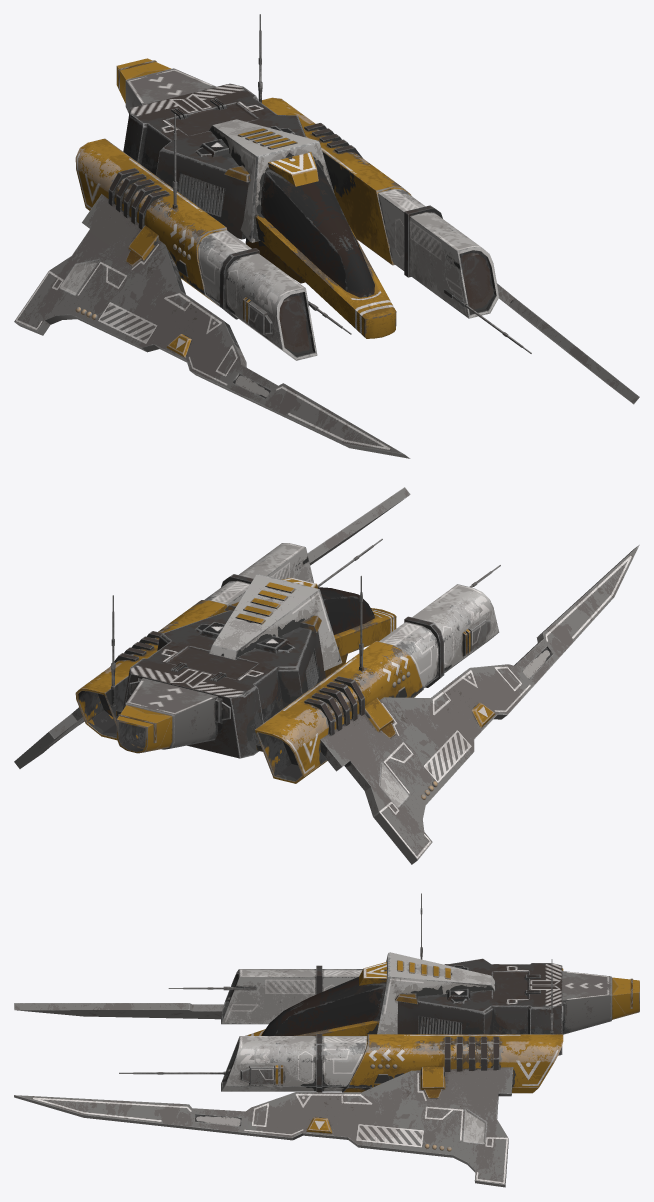
File: Striker.glb
3 views of the same model, one above another, from view 1: azimuth 30°, elevation 25°; view 2: azimuth 150°, elevation 25°; view 3: azimuth 270°, elevation 25° (orthographic). The views are drawn at different scales.
Visible parts, largest first — view 1: Striker; view 2: Striker; view 3: Striker.
Part boxes in pixels (box(x1,y1,x2,y2)): Striker: box(14, 14, 639, 458); Striker: box(14, 487, 639, 864); Striker: box(14, 893, 639, 1187).
Bounding box in the file's own units: 5.03 × 2.68 × 8.43.
1 material, 1 textured.
